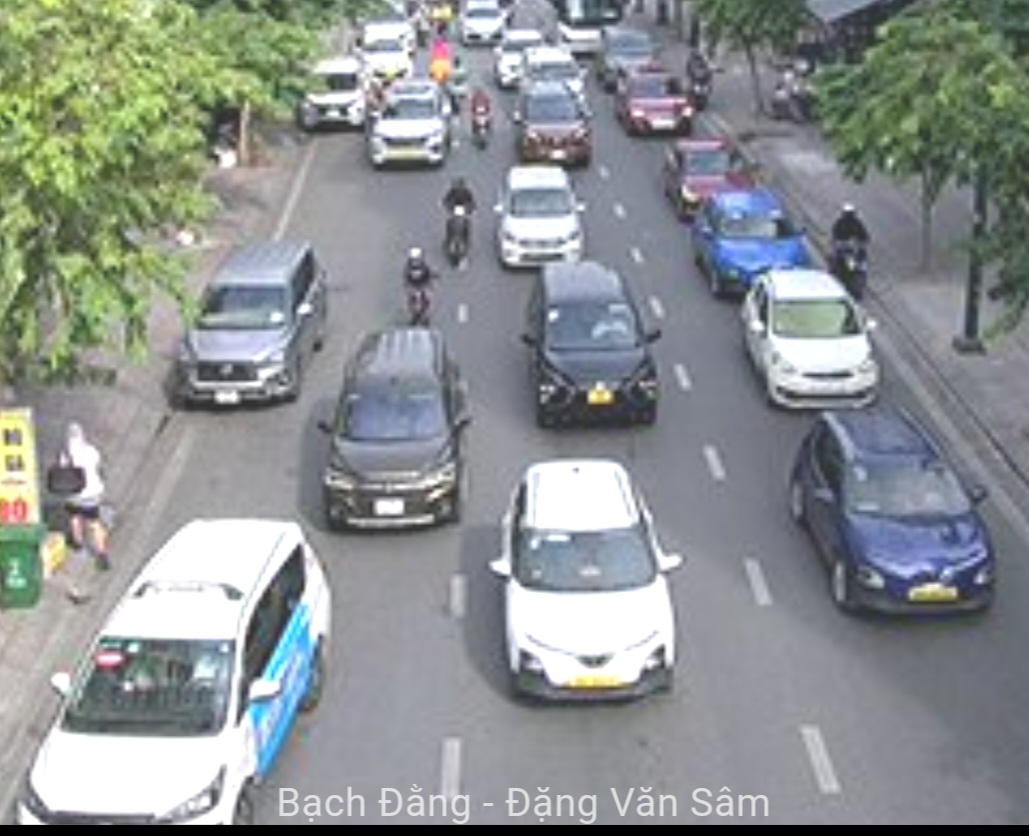car: (17, 517, 334, 831), (785, 411, 1008, 627), (498, 461, 685, 696), (329, 329, 469, 536), (177, 231, 328, 419), (527, 253, 660, 432), (742, 276, 885, 409), (697, 187, 807, 284), (495, 165, 584, 264), (659, 131, 759, 200), (516, 83, 596, 165), (374, 84, 452, 168), (297, 55, 367, 135), (616, 62, 693, 131)
